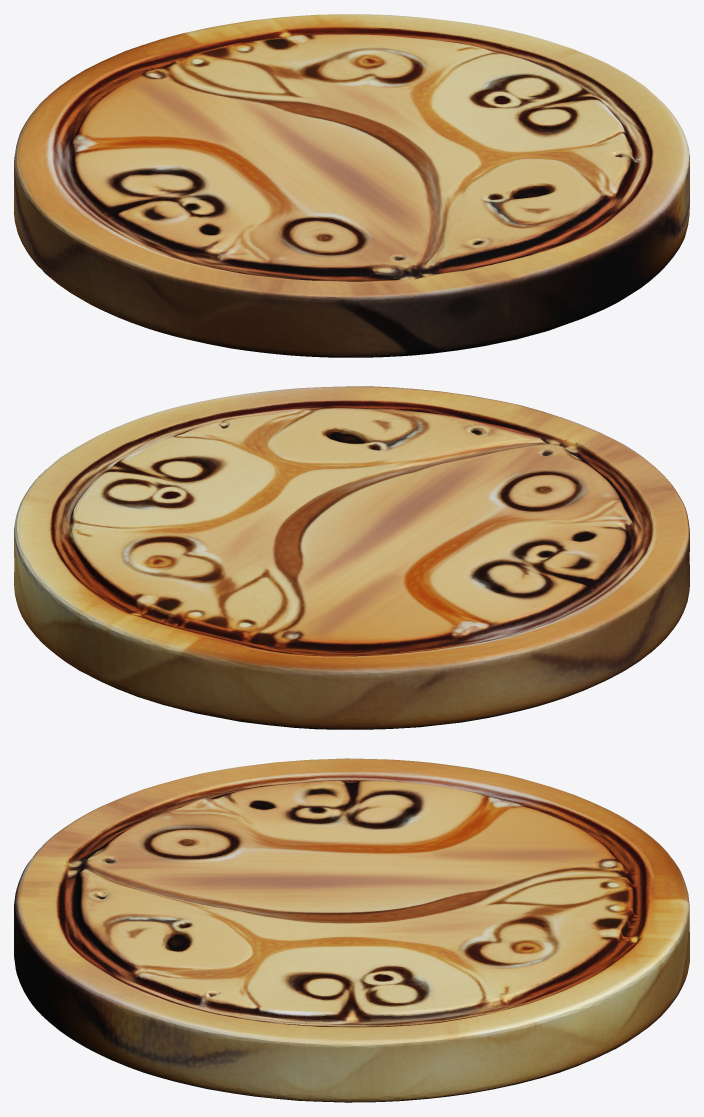
The model's file is wooden-coaster-3d.jpeg.glb.
3 views of the same model, one above another, from view 1: azimuth 30°, elevation 25°; view 2: azimuth 150°, elevation 25°; view 3: azimuth 270°, elevation 25° (orthographic).
Visible parts, largest first — view 1: world; view 2: world; view 3: world.
Boxes of the visible parts, left/top/right/bottom form: world: left=14, top=14, right=689, bottom=357; world: left=14, top=386, right=689, bottom=729; world: left=14, top=758, right=689, bottom=1102.
Bounding box in the file's own units: 1 × 0.1101 × 0.9997.
Materials: 1 (1 with a texture image).
